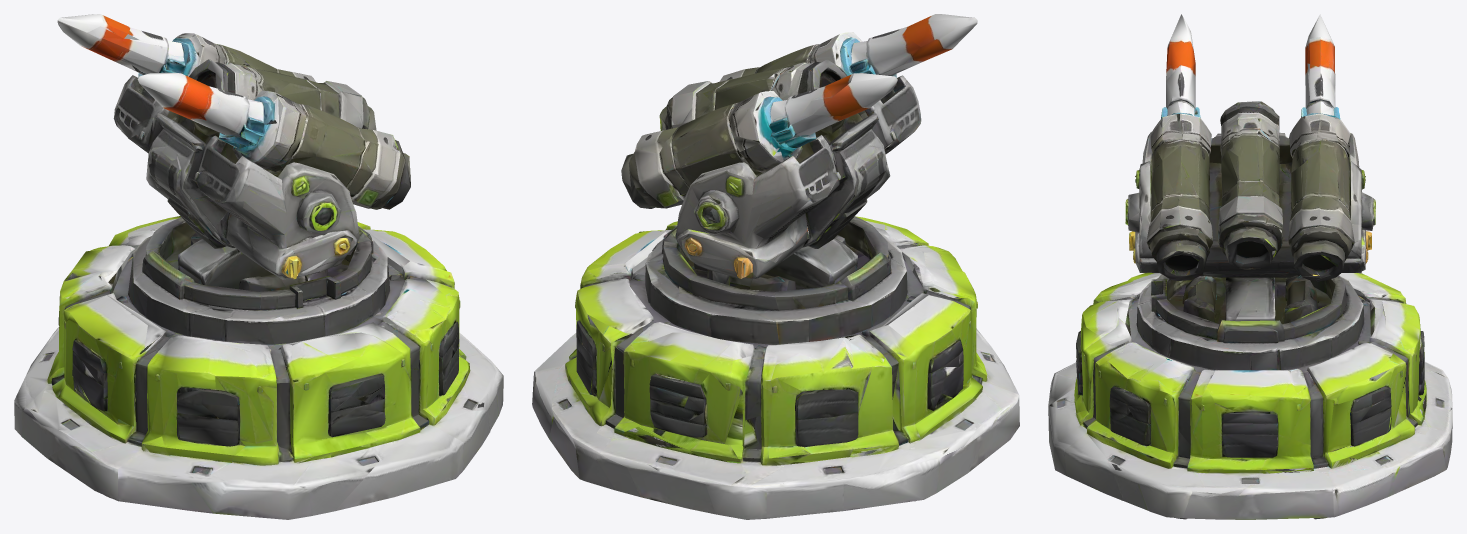
Rendered from turret-lr.glb.
3 renders of one model, left to right at view 1: azimuth 30°, elevation 25°; view 2: azimuth 150°, elevation 25°; view 3: azimuth 270°, elevation 25°, orthographic. The views are drawn at different scales.
Size of the model in its own units: 1.9 by 1.85 by 1.89.
Materials: 1 (1 with a texture image).
